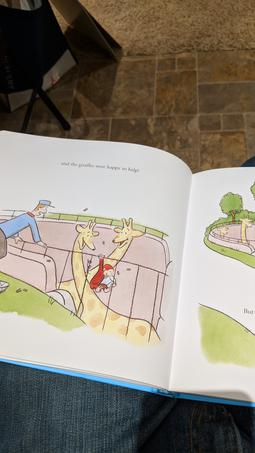text block: (56, 157, 149, 180)
